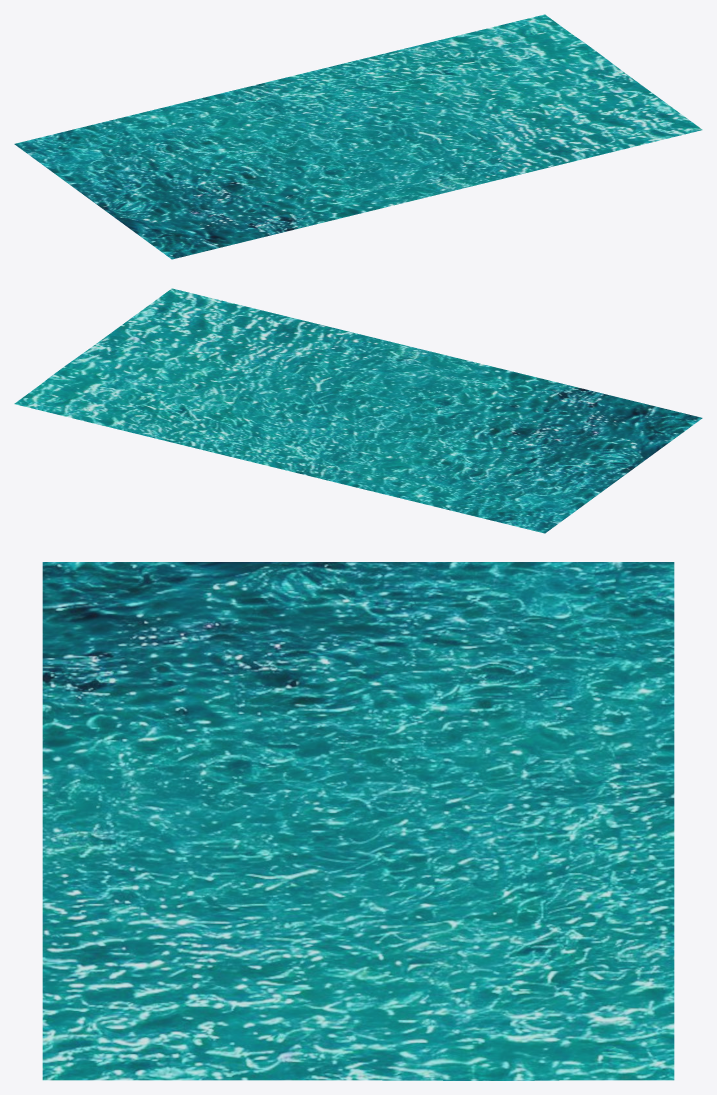
The model's file is Picina.obj.
3 views of the same model, one above another, from view 1: azimuth 30°, elevation 25°; view 2: azimuth 150°, elevation 25°; view 3: azimuth 270°, elevation 25° (orthographic). The views are drawn at different scales.
Parts seen in each view (by area): view 1: Cuadro:polySurface5; view 2: Cuadro:polySurface5; view 3: Cuadro:polySurface5.
Part boxes in pixels (bbox=[...]): Cuadro:polySurface5: bbox=[14, 14, 702, 259]; Cuadro:polySurface5: bbox=[14, 288, 702, 533]; Cuadro:polySurface5: bbox=[42, 562, 674, 1080].
Bounding box in the file's own units: 9.71 × 0 × 4.99.
1 material, 1 textured.
